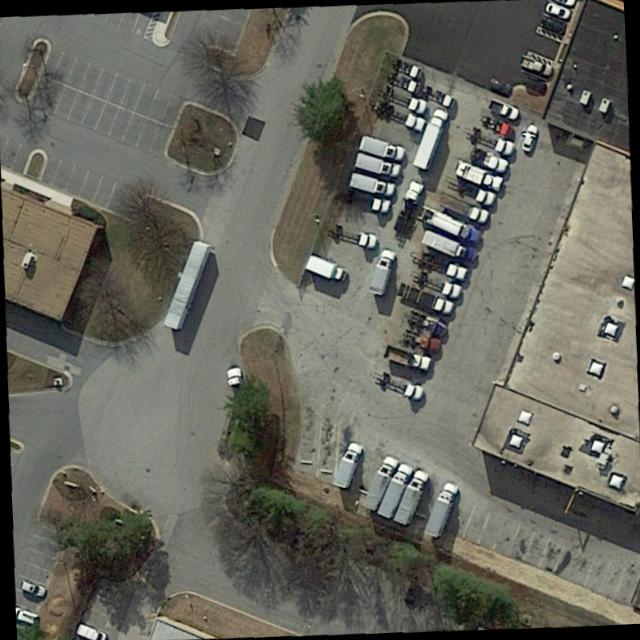large-vehicle: (160, 239, 212, 330), (415, 202, 482, 242), (410, 106, 448, 168), (420, 480, 460, 536), (392, 467, 430, 525), (360, 455, 398, 511), (419, 225, 472, 262), (376, 462, 411, 518), (364, 245, 398, 297), (329, 439, 363, 489), (345, 169, 394, 198), (379, 343, 430, 370), (303, 251, 347, 282), (351, 153, 400, 178), (358, 135, 404, 160)
small-vehicle: (486, 94, 520, 122), (518, 53, 553, 76), (537, 13, 567, 36), (518, 121, 539, 153), (540, 0, 572, 21), (19, 577, 46, 597), (487, 76, 512, 95)
